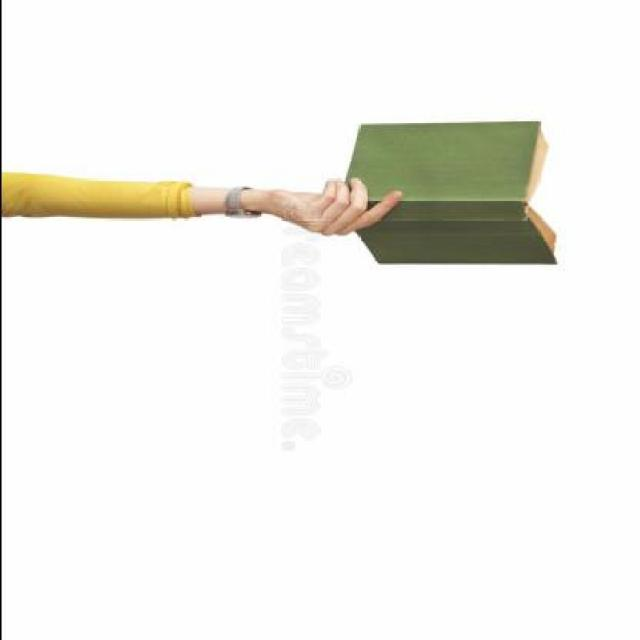book: (326, 94, 602, 358)
